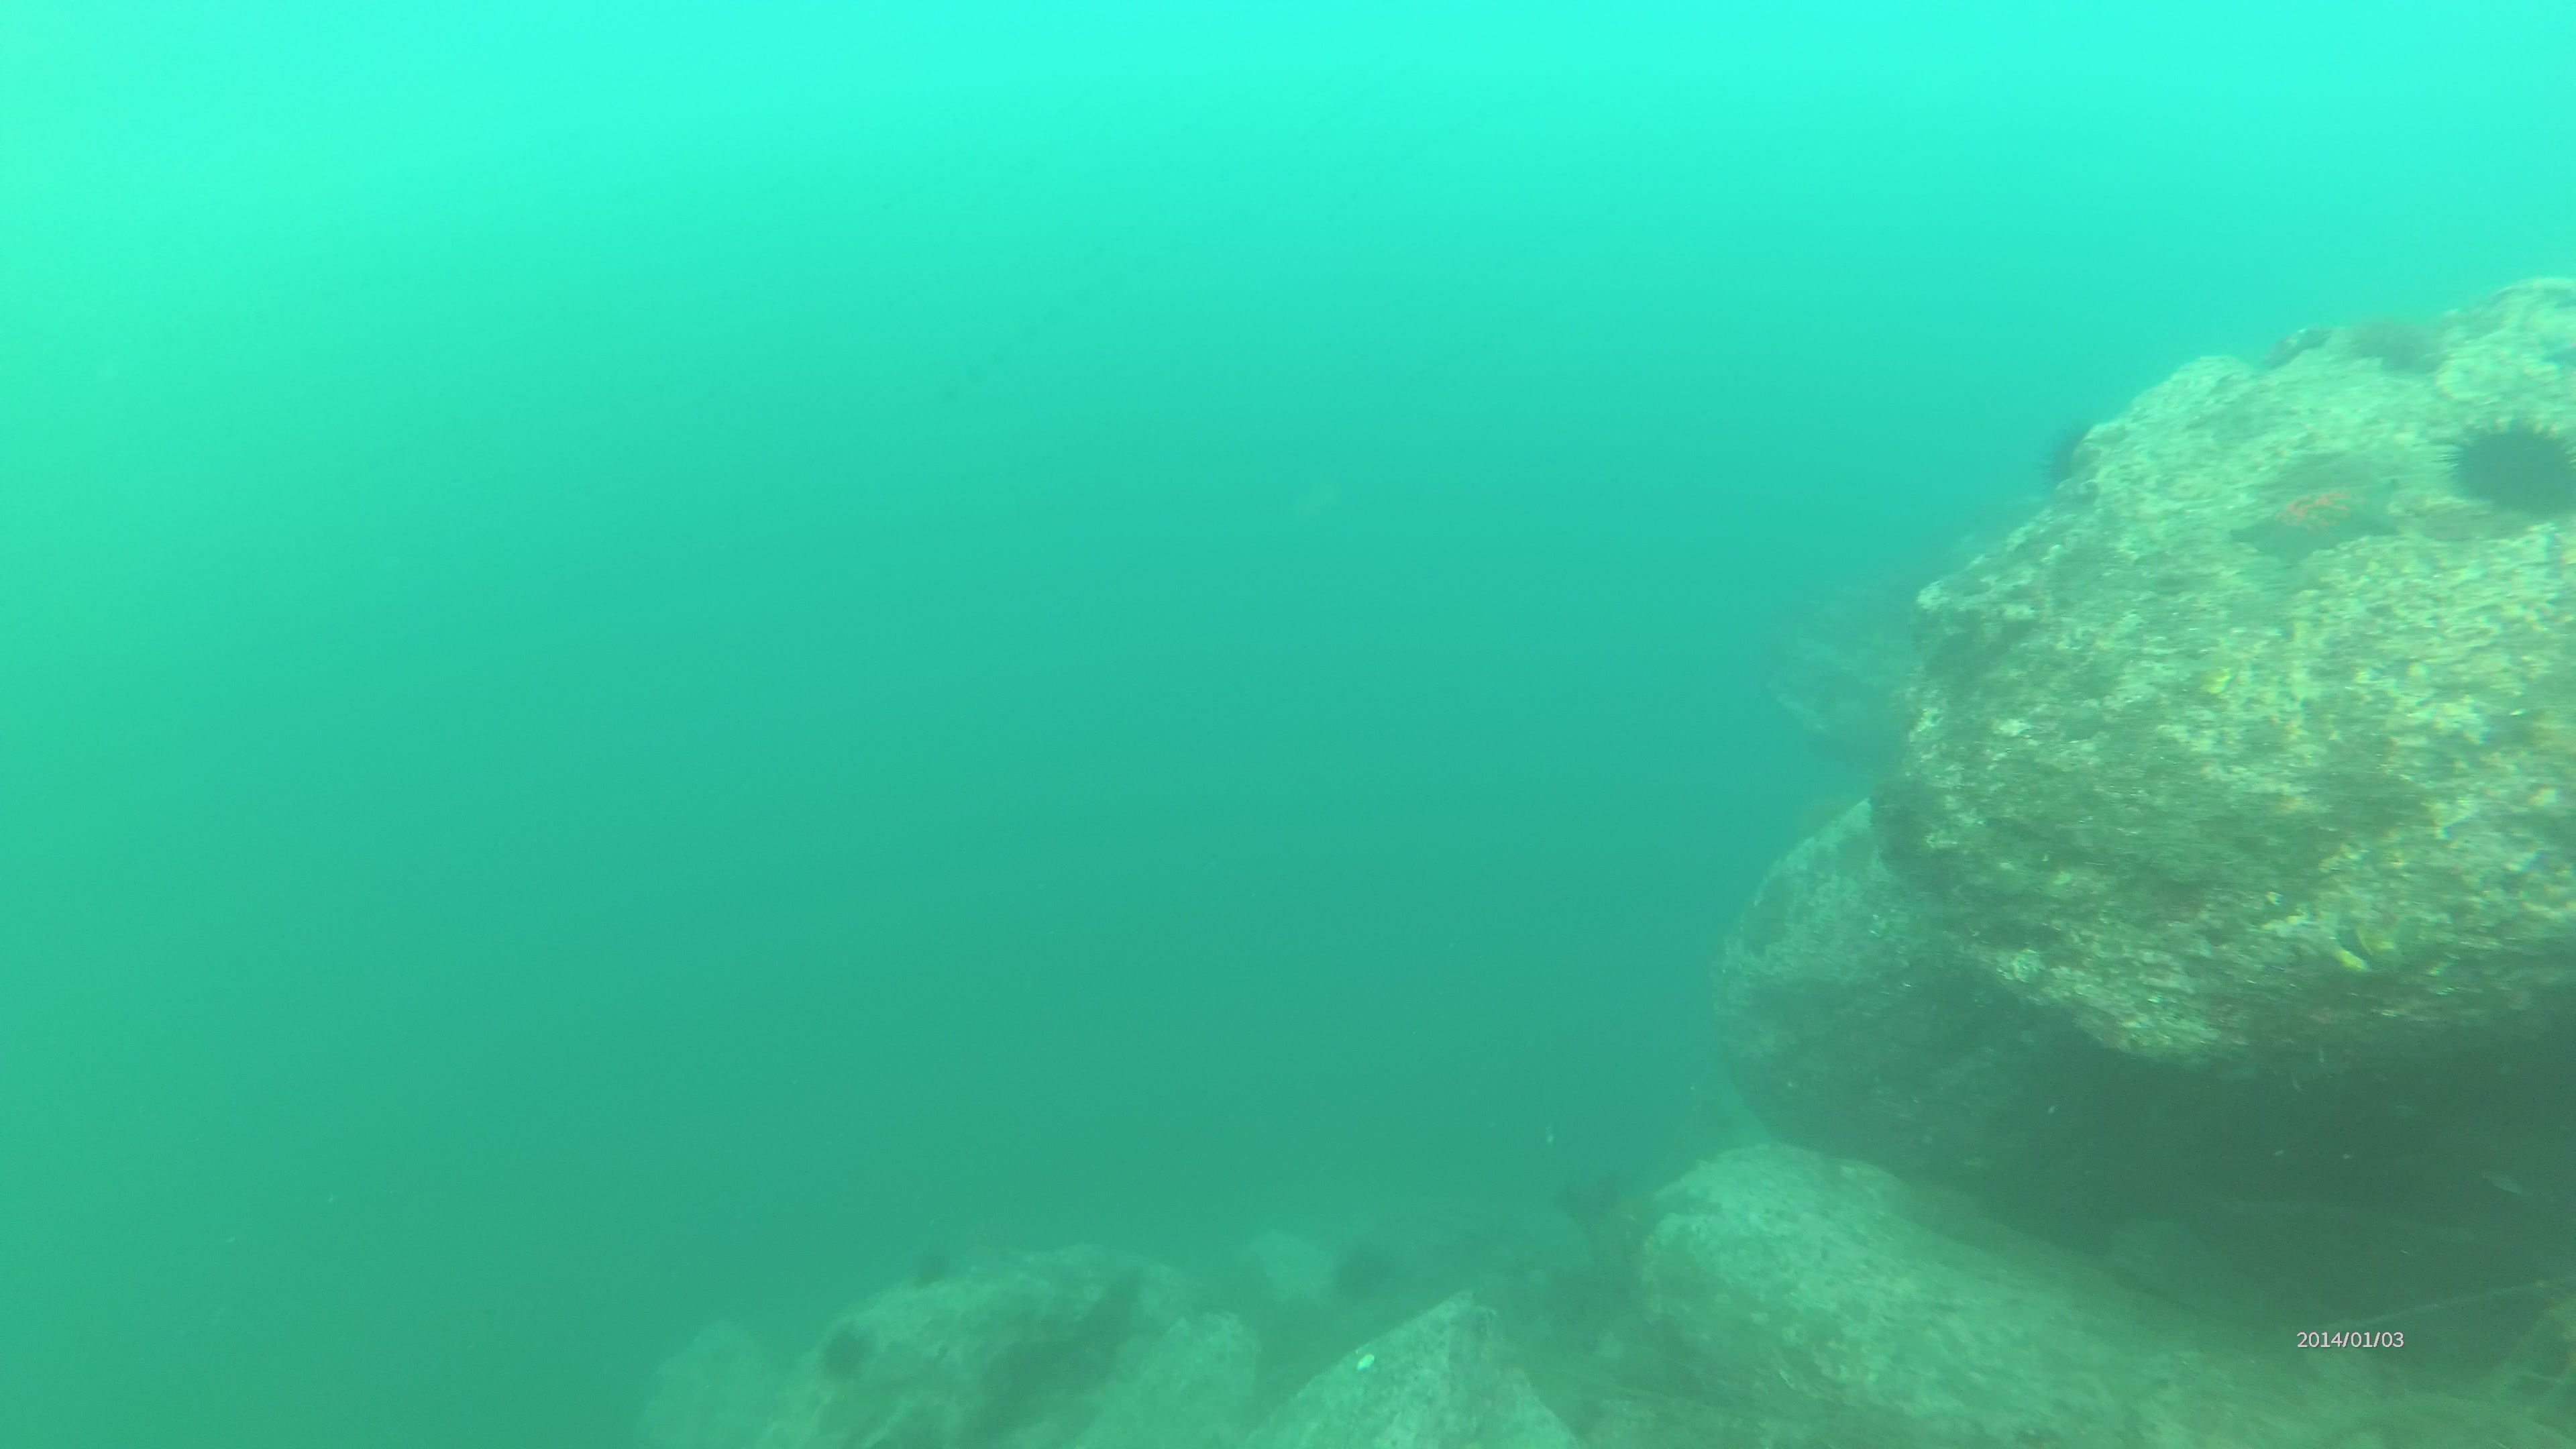echinus: (2440, 412, 2576, 511), (1336, 1247, 1394, 1299), (819, 1330, 874, 1373)
starfish: (2240, 465, 2404, 577)
